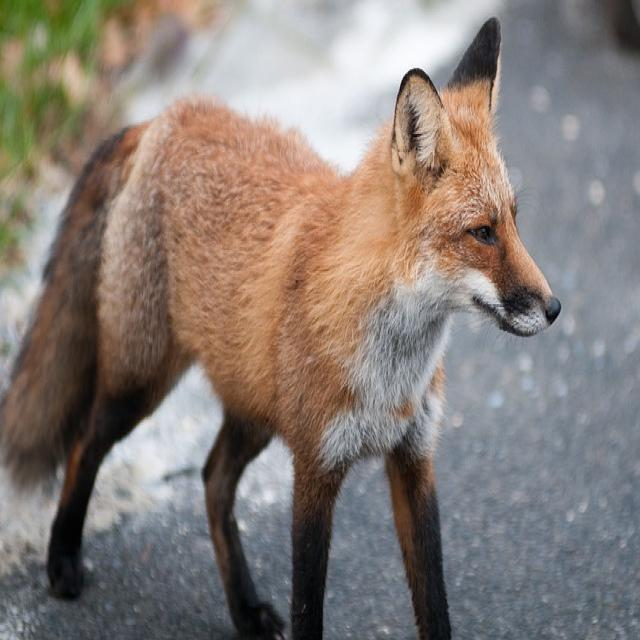Carnivorous: (0, 23, 563, 640)
